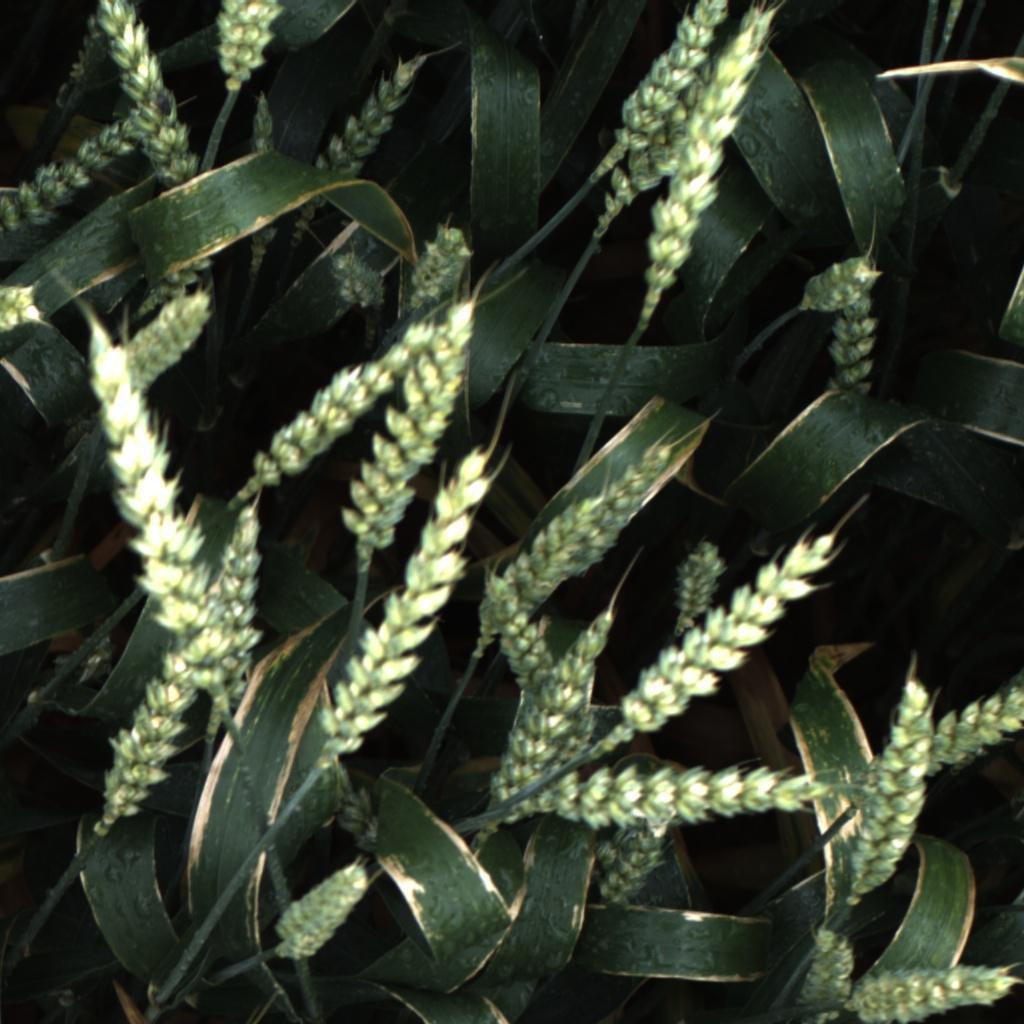0-0: (72, 328, 238, 735), (312, 438, 499, 783), (629, 5, 793, 314), (615, 529, 842, 742), (468, 422, 672, 647), (335, 275, 487, 571), (233, 317, 455, 512), (479, 592, 625, 838), (583, 39, 730, 249), (285, 50, 440, 245), (842, 661, 1024, 822), (510, 751, 843, 834), (838, 665, 944, 914), (90, 0, 210, 206), (95, 634, 216, 828), (604, 0, 737, 168), (0, 124, 132, 248), (474, 561, 567, 723), (233, 72, 299, 288), (270, 857, 387, 969), (118, 282, 220, 406), (202, 499, 261, 694), (534, 652, 607, 807), (317, 737, 397, 873), (581, 823, 676, 912), (824, 287, 886, 416), (65, 0, 151, 92), (661, 532, 731, 644), (213, 0, 290, 96), (789, 248, 879, 329), (797, 921, 860, 1024), (405, 214, 481, 296), (324, 241, 387, 314), (0, 271, 39, 351)
